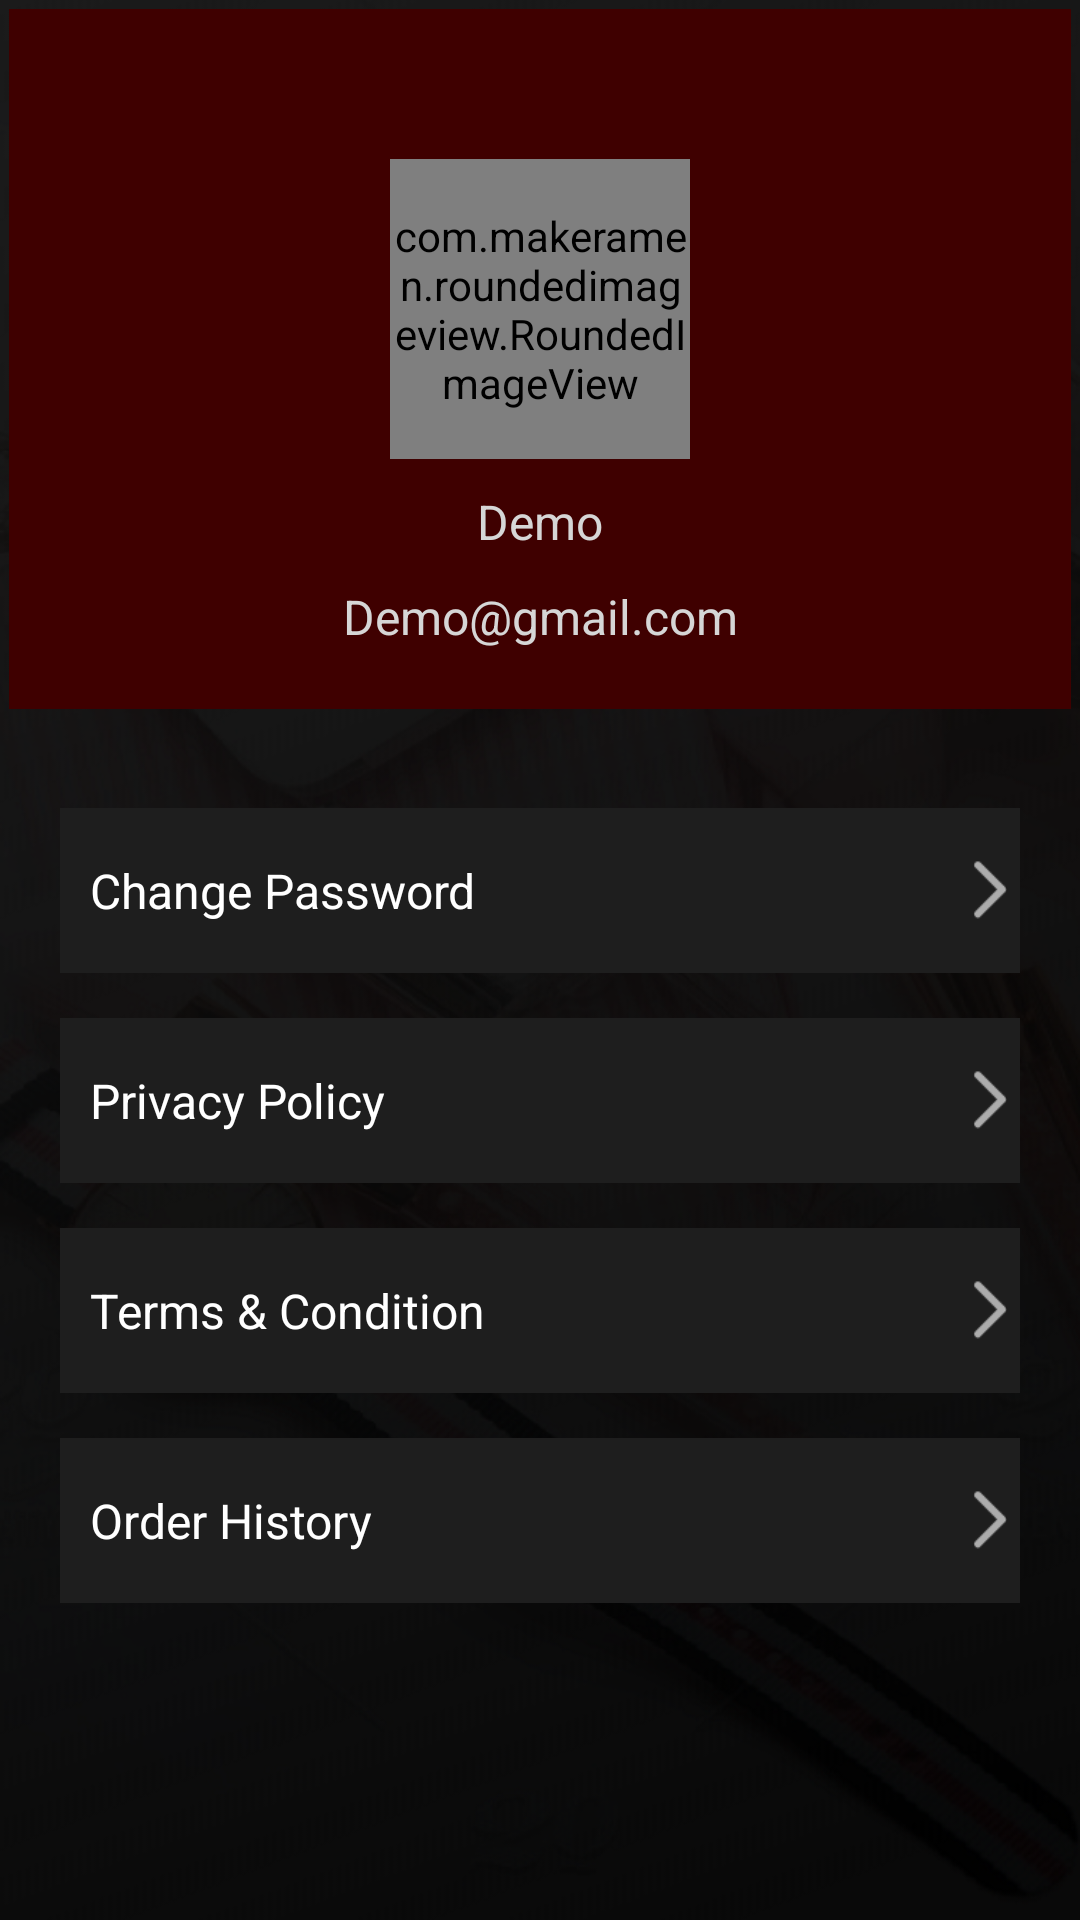

Icons on this 1080×1920 Android screen, each with the point to tap as (x=x, y=y):
arrow: (x=990, y=890), (x=990, y=1100), (x=990, y=1310), (x=990, y=1520)
